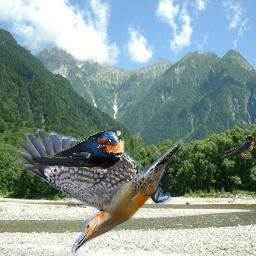Swallow: (19, 129, 125, 171), (214, 135, 255, 159)
Woodpecker: (12, 128, 183, 255)
